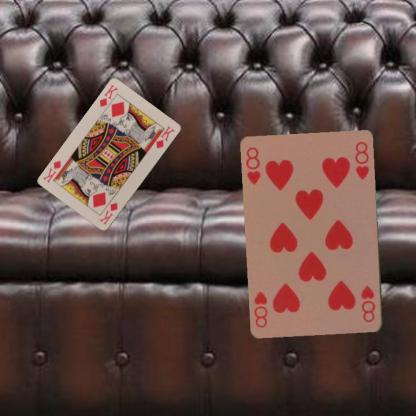8h: (244, 144, 262, 186), (359, 283, 377, 324)
Kd: (97, 82, 119, 109), (97, 200, 119, 226)
